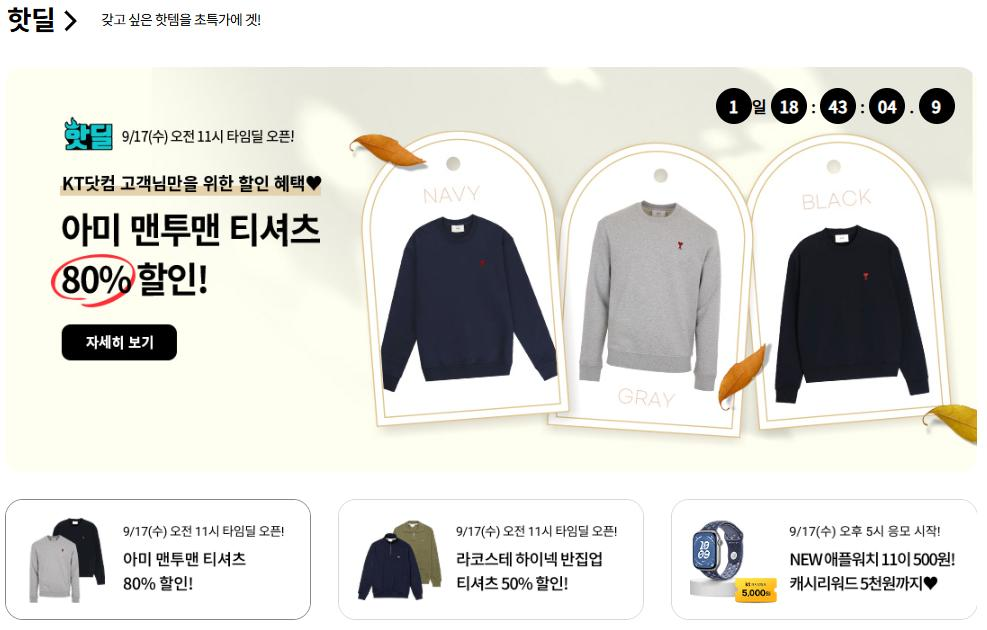button: (59, 323, 175, 363)
popup: (0, 62, 979, 476), (5, 497, 312, 620), (339, 498, 645, 619), (673, 499, 977, 619)
